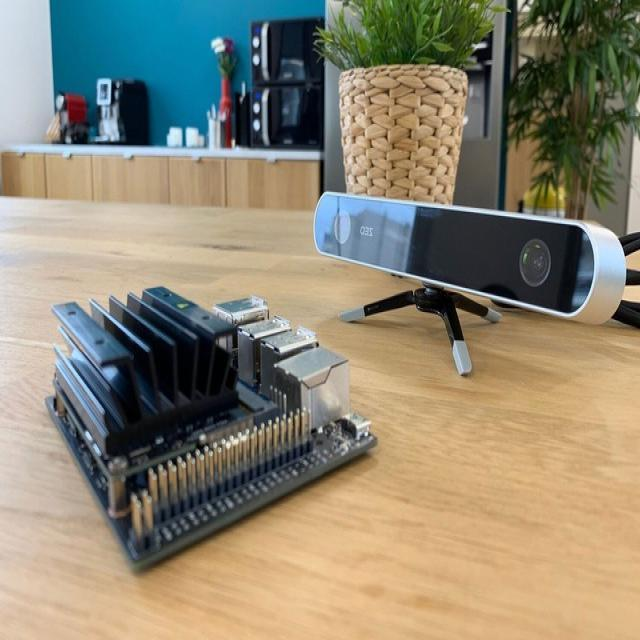Jetson Nano: (47, 286, 379, 570)
